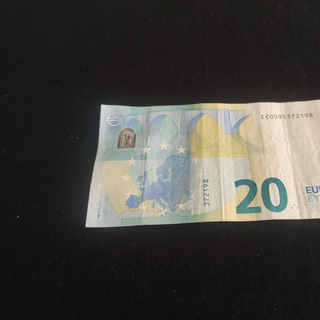20EUROBack: (84, 98, 320, 228)
